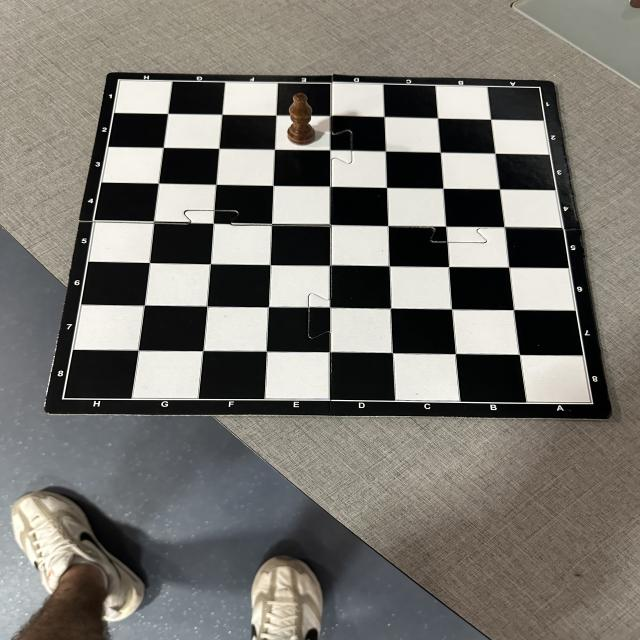Black-Bishop: (288, 92, 317, 146)
